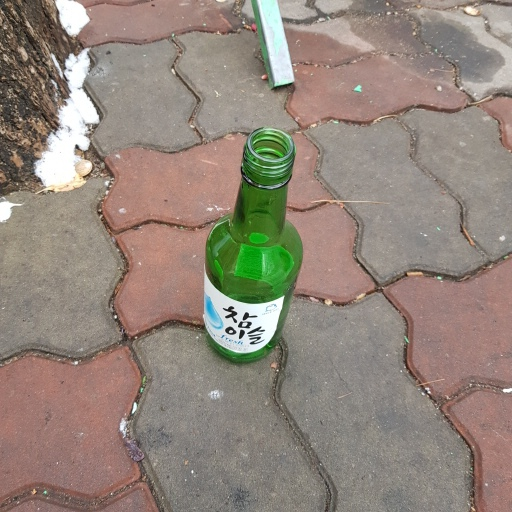Glass_0: (197, 130, 305, 366)
